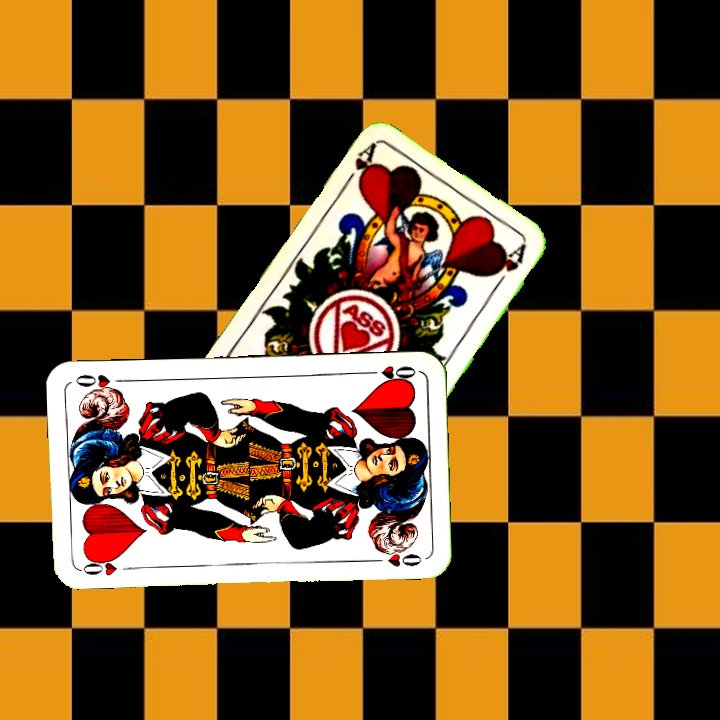HA: (337, 141, 378, 194)
HO: (361, 361, 419, 386), (76, 552, 122, 579)
